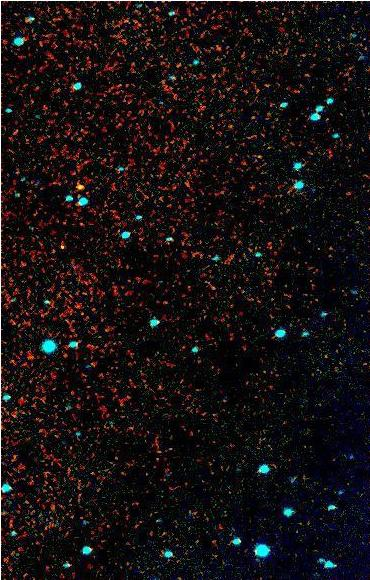star: (64, 171, 94, 201)
